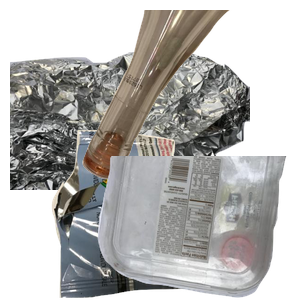glass: (80, 10, 300, 182)
metal: (10, 47, 250, 227)
plastic: (95, 156, 300, 300)
trash: (49, 130, 235, 300)
